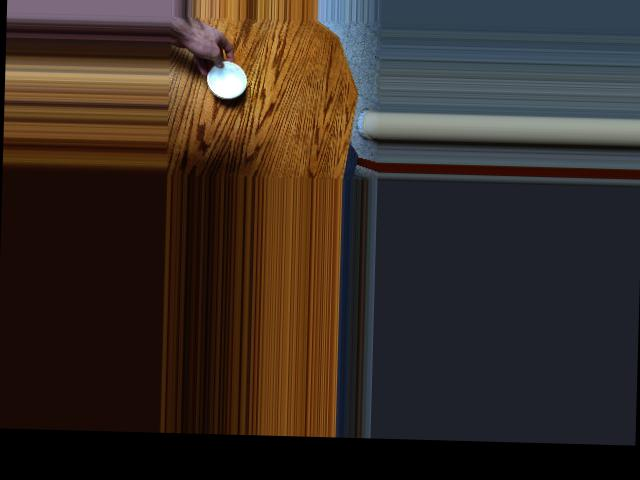cotage: (200, 55, 251, 100)
